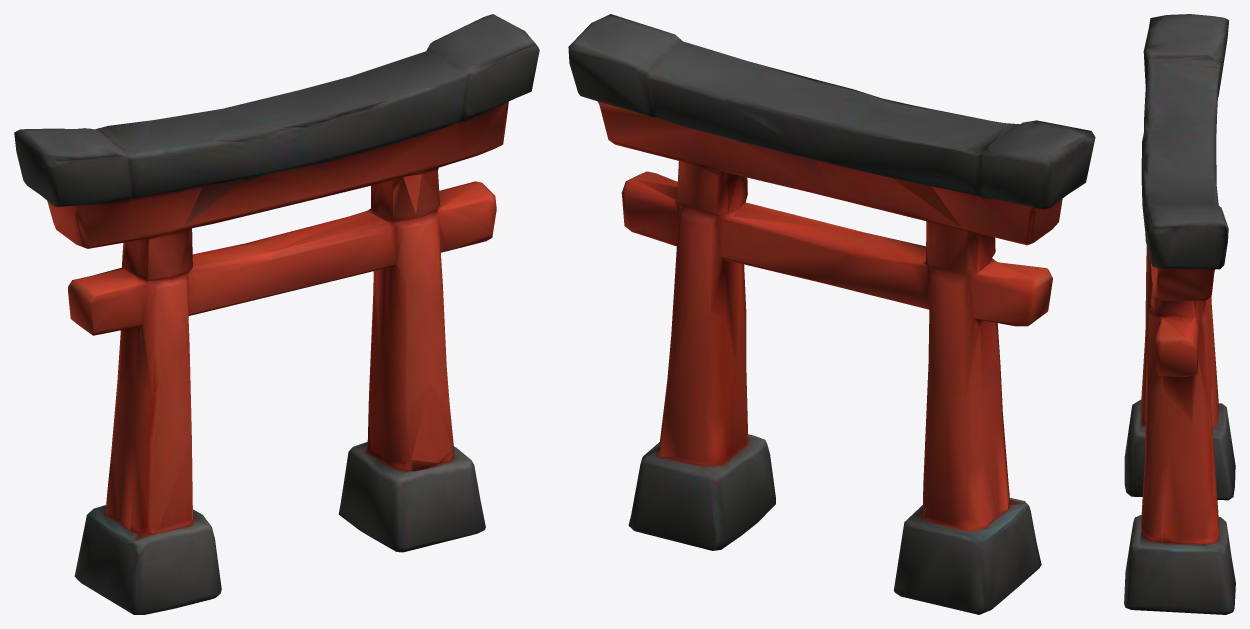
File: torii.glb
3 views of the same model, side by side, from view 1: azimuth 30°, elevation 25°; view 2: azimuth 150°, elevation 25°; view 3: azimuth 270°, elevation 25° (orthographic). The views are drawn at different scales.
Parts seen in each view (by area): view 1: tripo_node_52a072fc-3329-4b80-ba54-d3de4d8b2a21; view 2: tripo_node_52a072fc-3329-4b80-ba54-d3de4d8b2a21; view 3: tripo_node_52a072fc-3329-4b80-ba54-d3de4d8b2a21.
Boxes of the visible parts, box(x1,y1,x2,y2) form: tripo_node_52a072fc-3329-4b80-ba54-d3de4d8b2a21: box(14, 14, 539, 614); tripo_node_52a072fc-3329-4b80-ba54-d3de4d8b2a21: box(568, 14, 1095, 614); tripo_node_52a072fc-3329-4b80-ba54-d3de4d8b2a21: box(1124, 14, 1235, 614).
Size of the model in its own units: 0.9802 by 0.8985 by 0.2166.
1 material, 1 textured.
